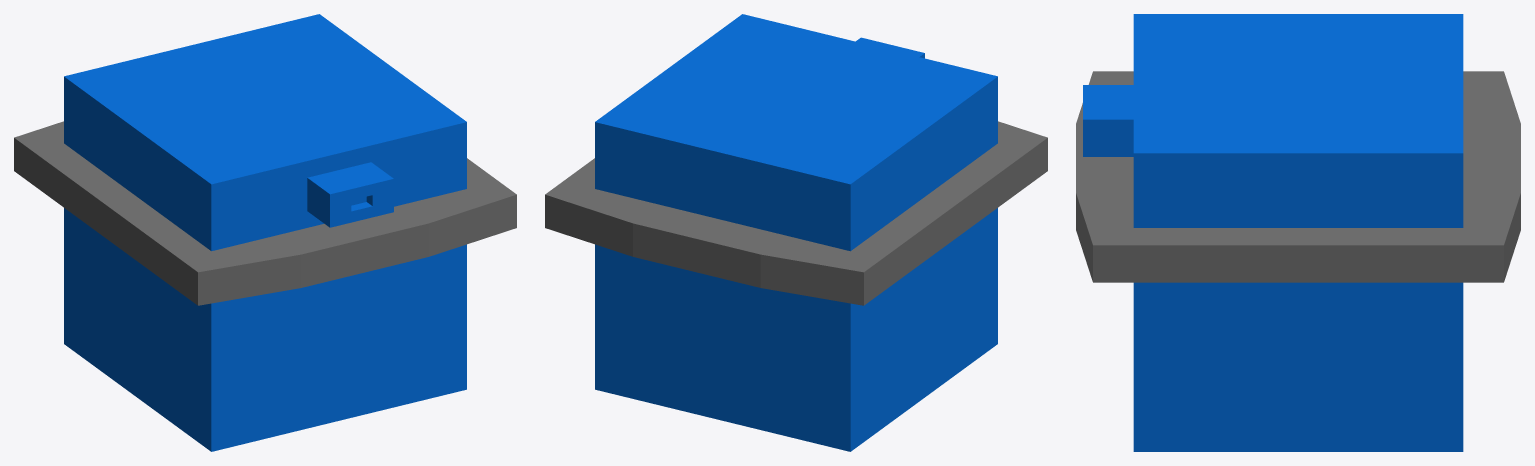
Rendered from sandık.fbx.
3 views of the same model, side by side, from view 1: azimuth 30°, elevation 25°; view 2: azimuth 150°, elevation 25°; view 3: azimuth 270°, elevation 25° (orthographic). The views are drawn at different scales.
Visible parts, largest first — view 1: Cube.009; view 2: Cube.009; view 3: Cube.009.
Part boxes in pixels (x1,y1,x2,y2): Cube.009: (14,14,516,451); Cube.009: (545,14,1047,451); Cube.009: (1076,14,1520,451).
Size of the model in its own units: 683 by 548 by 739.
